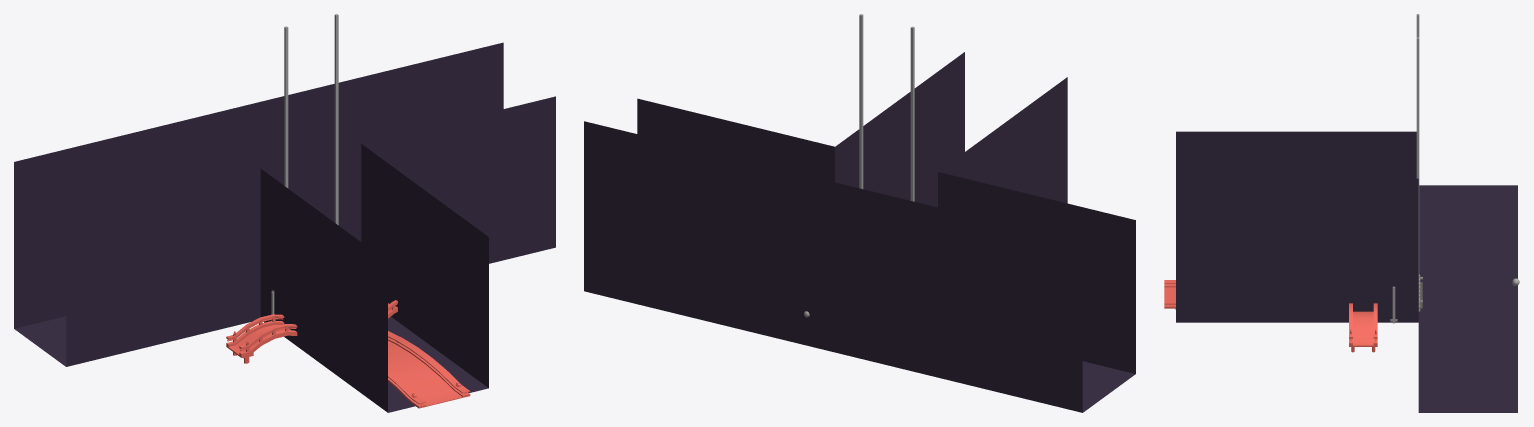
File: stage_test.fbx
3 renders of one model, left to right at view 1: azimuth 30°, elevation 25°; view 2: azimuth 150°, elevation 25°; view 3: azimuth 270°, elevation 25°, orthographic. The views are drawn at different scales.
Visible parts, largest first — view 1: pCube11, hashi6, hashi5, pCube16, pCube17; view 2: pCube11, pCube17, pCube16; view 3: pCube11, hashi4, pCube16, hashi6.
Boxes of the visible parts, x1,y1,x2,y2 form: pCube11: (14,42,555,412); hashi6: (388,331,470,408); hashi5: (226,314,297,363); pCube16: (334,14,338,225); pCube17: (284,26,288,188); pCube11: (584,52,1135,412); pCube17: (910,26,914,201); pCube16: (859,14,863,188); pCube11: (1176,131,1517,412); hashi4: (1349,303,1377,352); pCube16: (1416,37,1419,299); hashi6: (1164,280,1175,309).
Bounding box in the file's own units: 5282 × 3021 × 3485.
